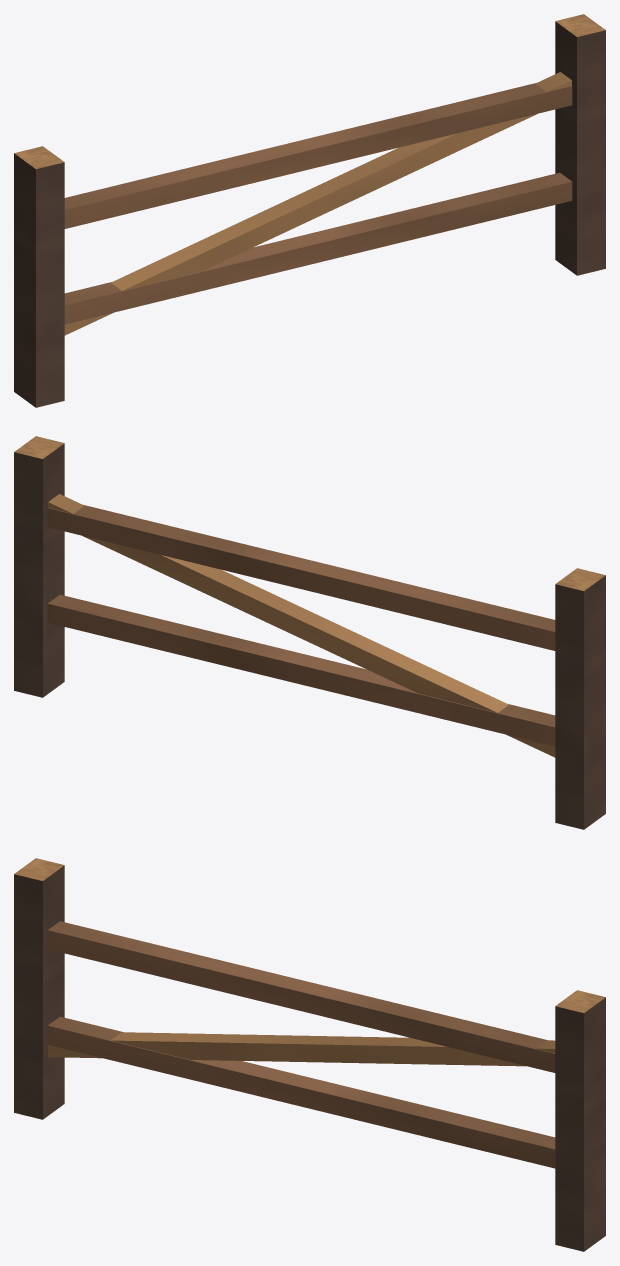
Rendered from fence_wood_gate.fbx.
3 views of the same model, one above another, from view 1: azimuth 30°, elevation 25°; view 2: azimuth 150°, elevation 25°; view 3: azimuth 330°, elevation 25° (orthographic).
Visible parts, largest first — view 1: fence_wood_gate; view 2: fence_wood_gate; view 3: fence_wood_gate.
Boxes of the visible parts, box(x1,y1,x2,y2) form: fence_wood_gate: box(14, 14, 605, 407); fence_wood_gate: box(14, 436, 605, 829); fence_wood_gate: box(14, 858, 605, 1251).
Bounding box in the file's own units: 300 × 120 × 20.
Materials: 1 (1 with a texture image).
